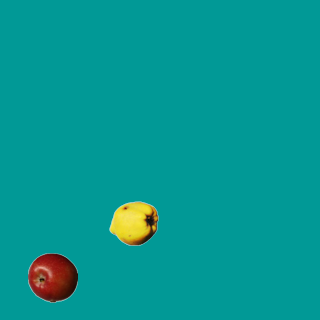Apple Braeburn: (27, 252, 77, 302)
Quince: (108, 198, 158, 248)
